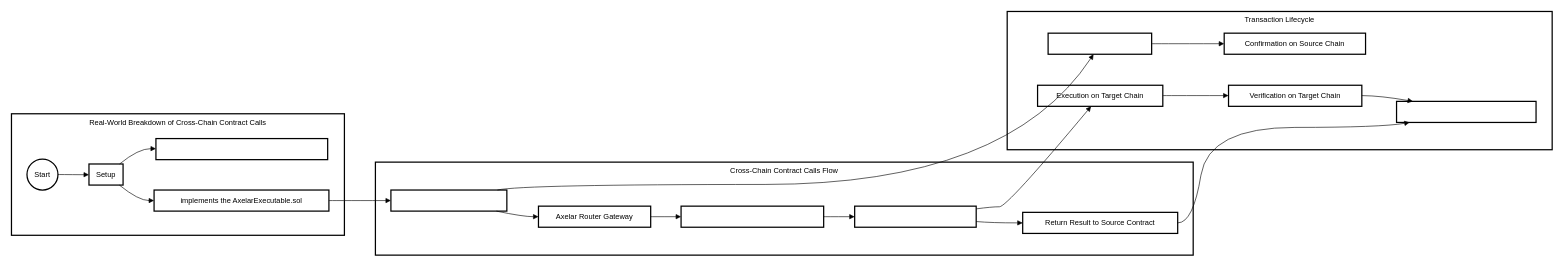
Some shapes in this 1563 by 266 pixel diagram are drawn without their labels. The centre of each missing label's shape, as x and y in pixels:
Call Destination Contract: [915,216]
Confirmation on Target Chain: [1466,111]
Initiate Cross-Chain Call: [448,200]
The destination application contract: [241,149]
Transaction Initiation: [1099,43]
Verification and Authorization: [752,216]
